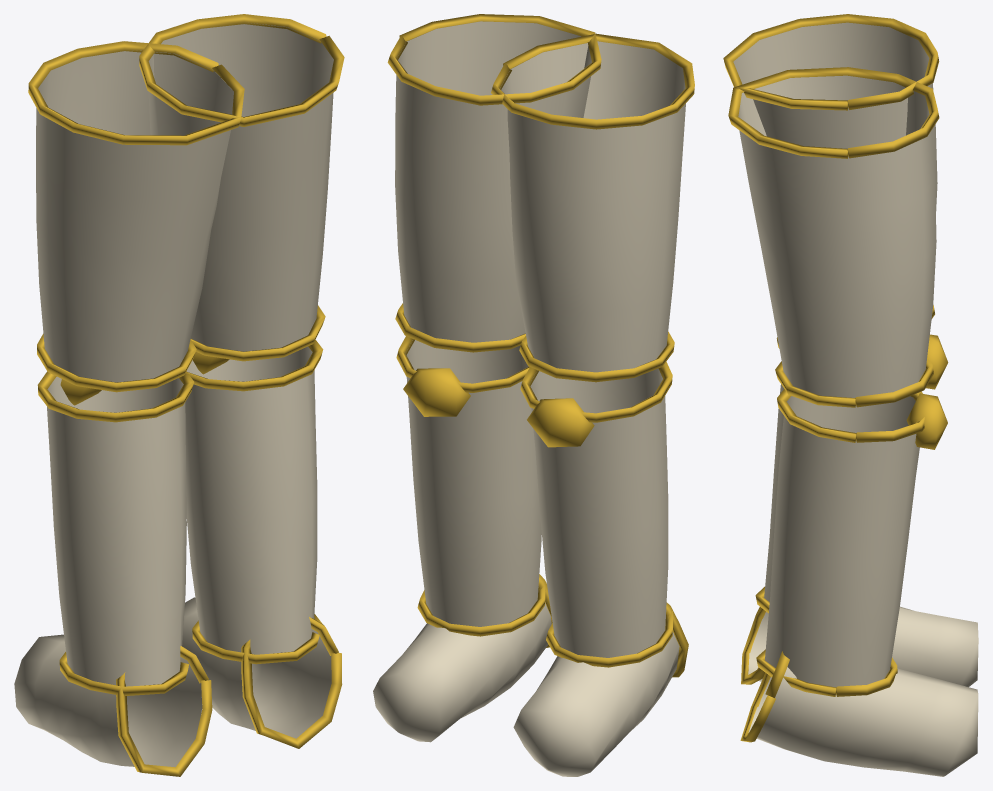
The model's file is hallowed_greaves.glb.
The picture shows the model from 3 angles, left to right: view 1: azimuth 30°, elevation 25°; view 2: azimuth 150°, elevation 25°; view 3: azimuth 270°, elevation 25°; orthographic projection. The views are drawn at different scales.
Parts seen in each view (by area): view 1: hallowed_greaves_cuisse.L; view 2: hallowed_greaves_cuisse.L; view 3: hallowed_greaves_cuisse.L.
Boxes of the visible parts, x1,y1,x2,y2 form: hallowed_greaves_cuisse.L: (14, 14, 344, 776); hallowed_greaves_cuisse.L: (373, 14, 694, 776); hallowed_greaves_cuisse.L: (723, 14, 978, 776).
Bounding box in the file's own units: 0.4249 × 0.9563 × 0.3366.
